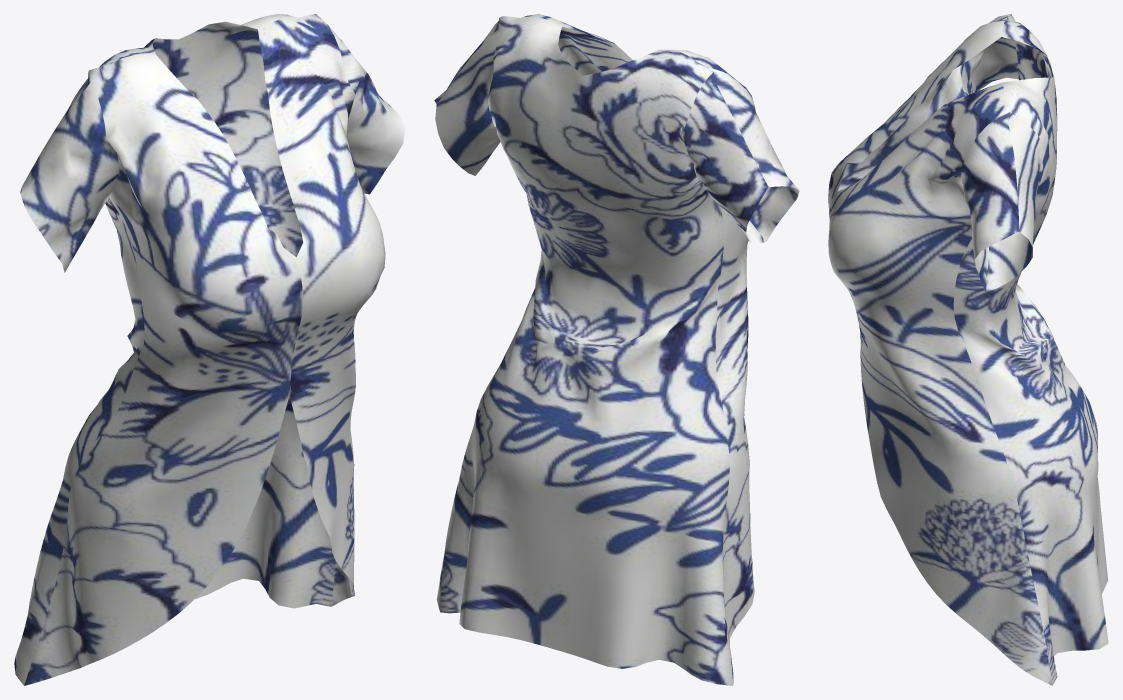
Rendered from blusaFlor.obj.
3 renders of one model, left to right at view 1: azimuth 30°, elevation 25°; view 2: azimuth 150°, elevation 25°; view 3: azimuth 270°, elevation 25°, orthographic. The views are drawn at different scales.
Size of the model in its own units: 0.5387 by 0.8652 by 0.3885.
